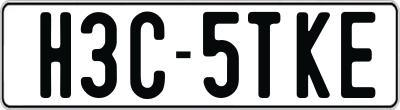3: (81, 10, 119, 99)
5: (203, 12, 241, 100)
C: (129, 12, 165, 101)
E: (340, 11, 379, 99)
H: (39, 11, 76, 100)
K: (294, 10, 330, 99)
T: (246, 9, 284, 100)
